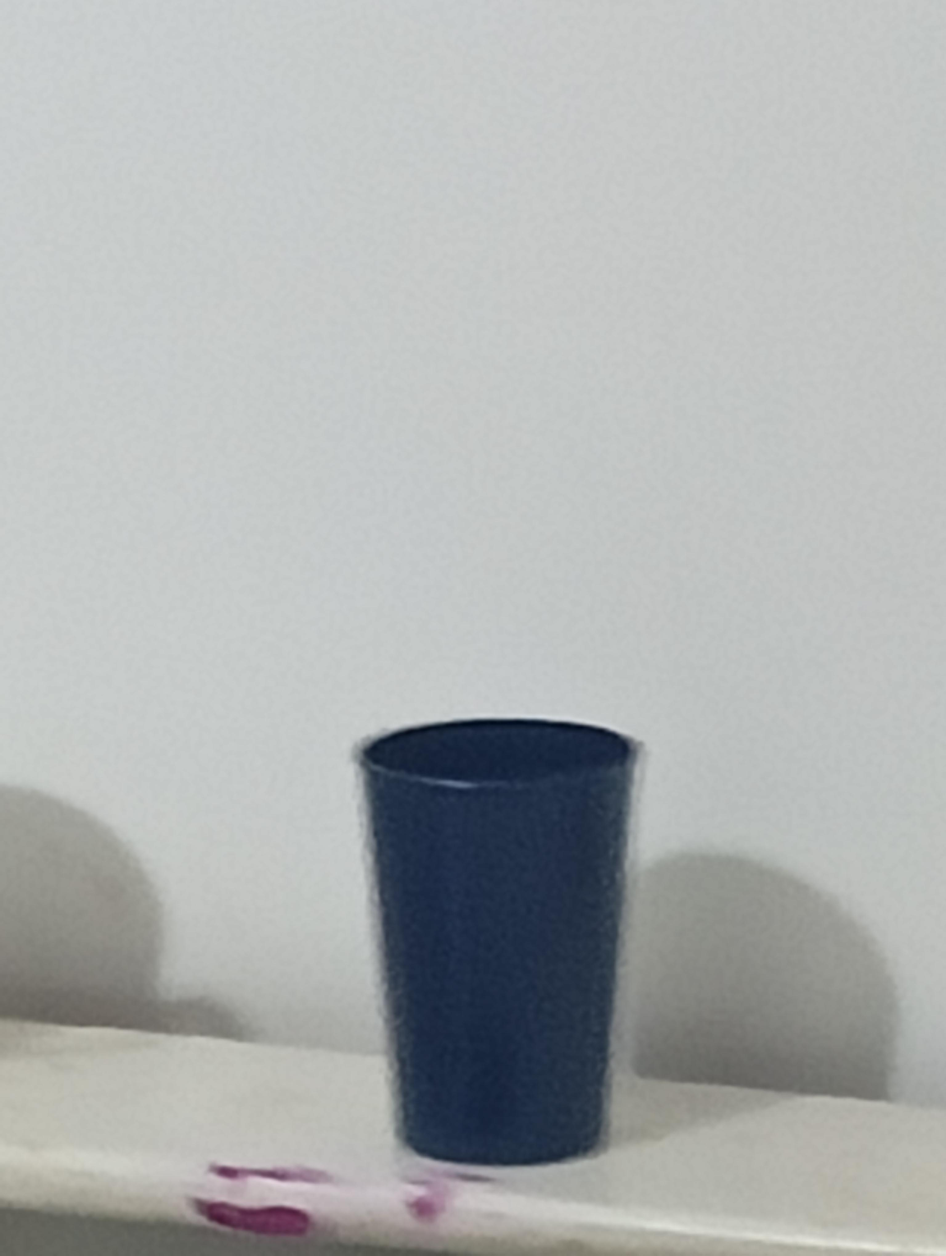cup: (359, 719, 637, 1164)
